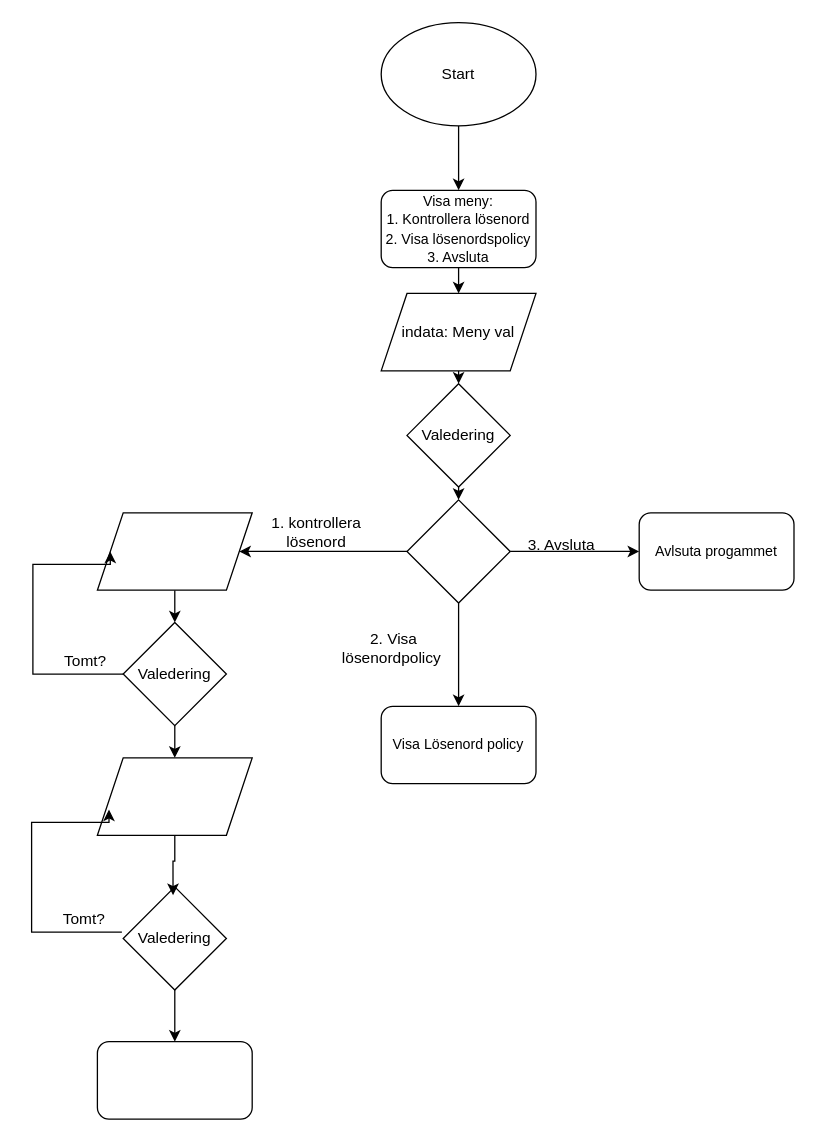
This 817x1142 diagram has some shape labels left out. The centre of each missing label's shape, as x and y in pixels:
Läs in användarens lösenord.: the point at 174,796
Läs in användarens namn: the point at 174,550
Menu: the point at 458,551
skriv att lösenordet följer policy eller att de inte gör de.: the point at 174,1079
